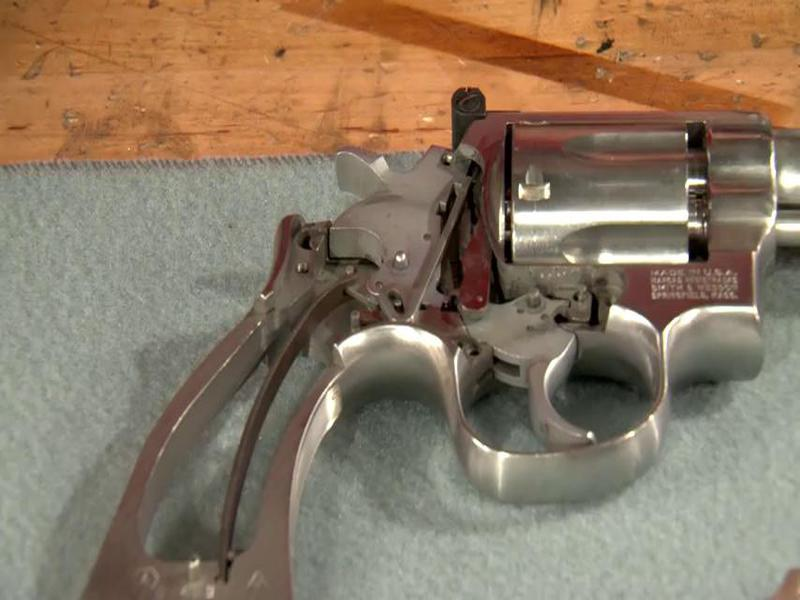Revolver: (124, 64, 795, 600)
